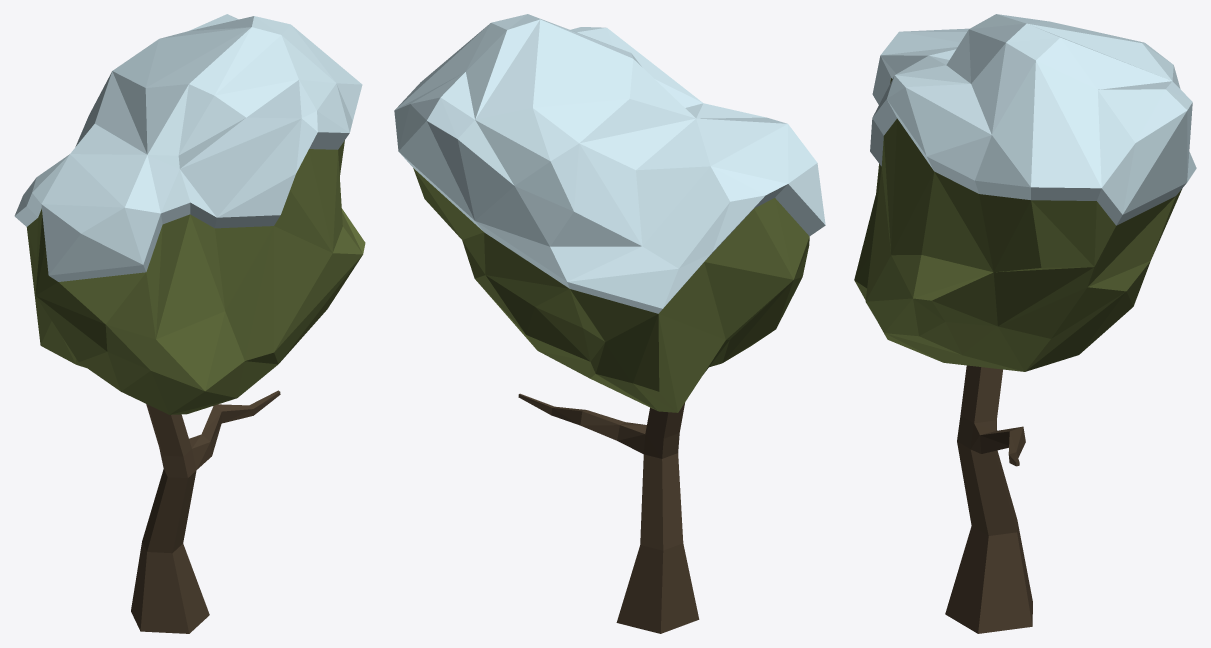
The model's file is SM_Env_Tree_017_Snow.gltf.
The picture shows the model from 3 angles, left to right: view 1: azimuth 30°, elevation 25°; view 2: azimuth 150°, elevation 25°; view 3: azimuth 270°, elevation 25°; orthographic projection. The views are drawn at different scales.
Visible parts, largest first — view 1: SM_Env_Tree_017_Snow; view 2: SM_Env_Tree_017_Snow; view 3: SM_Env_Tree_017_Snow.
Part boxes in pixels (x1=…): SM_Env_Tree_017_Snow: x1=14, y1=14, x2=365, y2=633; SM_Env_Tree_017_Snow: x1=394, y1=14, x2=825, y2=633; SM_Env_Tree_017_Snow: x1=854, y1=14, x2=1196, y2=633.
Size of the model in its own units: 4.02 by 6.11 by 2.94.
Materials: 1 (1 with a texture image).
